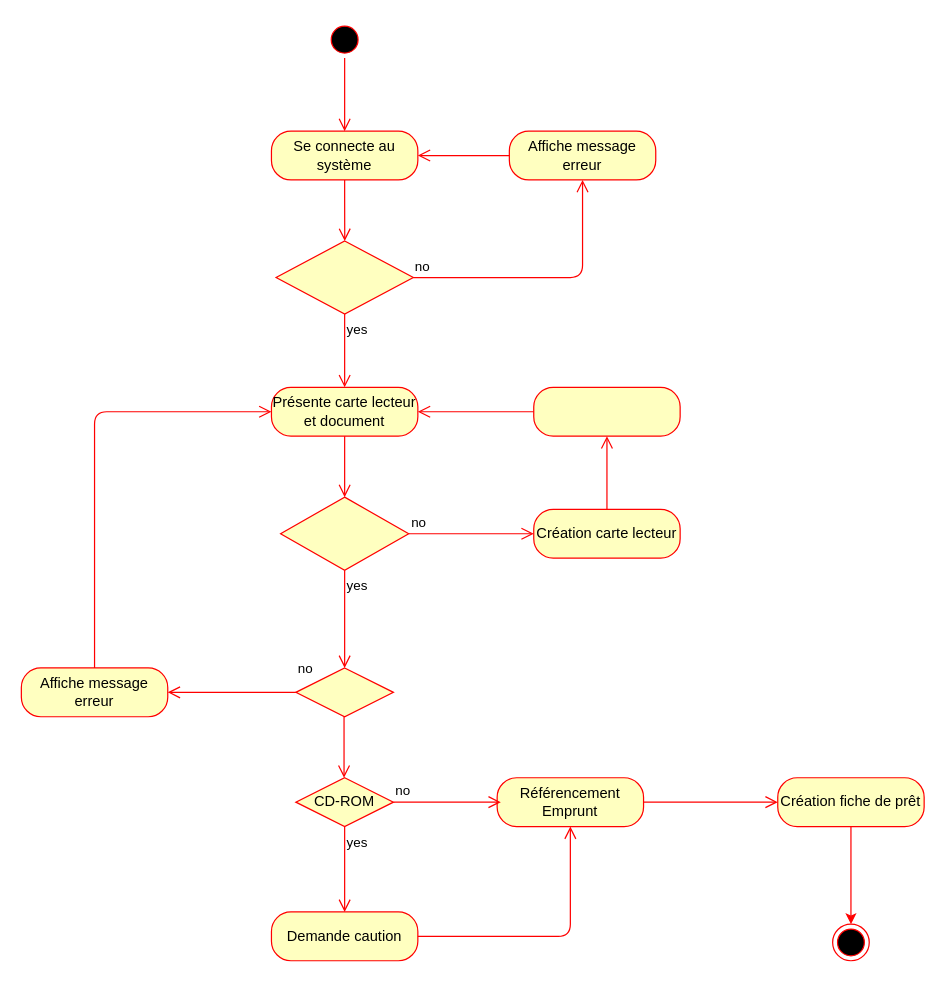
Some shapes in this 946 by 982 pixel diagram are drawn without their labels. The box of each missing label's shape, as (x1, y1, x2, y2) in pixels:
A une carte de lecteur: (279, 496, 409, 570)
Carte valide: (295, 667, 393, 717)
Identifiants valide: (275, 240, 413, 314)
Impression carte lecteur: (533, 386, 680, 436)
